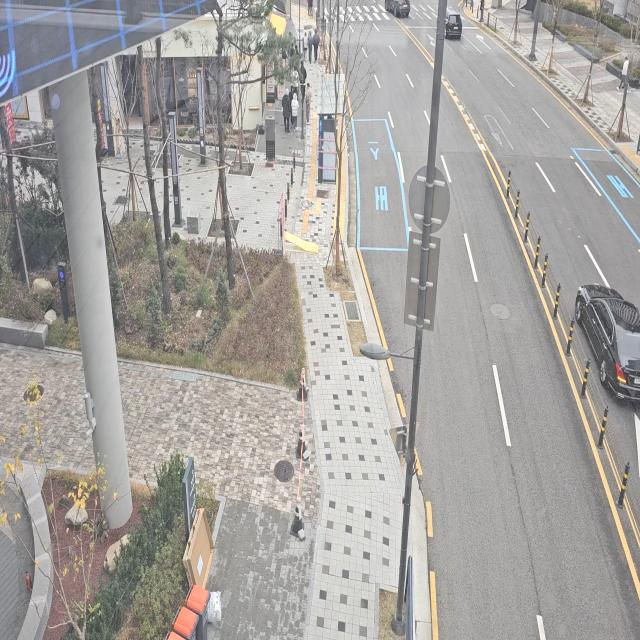Car: (575, 266, 640, 411), (441, 4, 464, 40), (381, 0, 416, 19)
